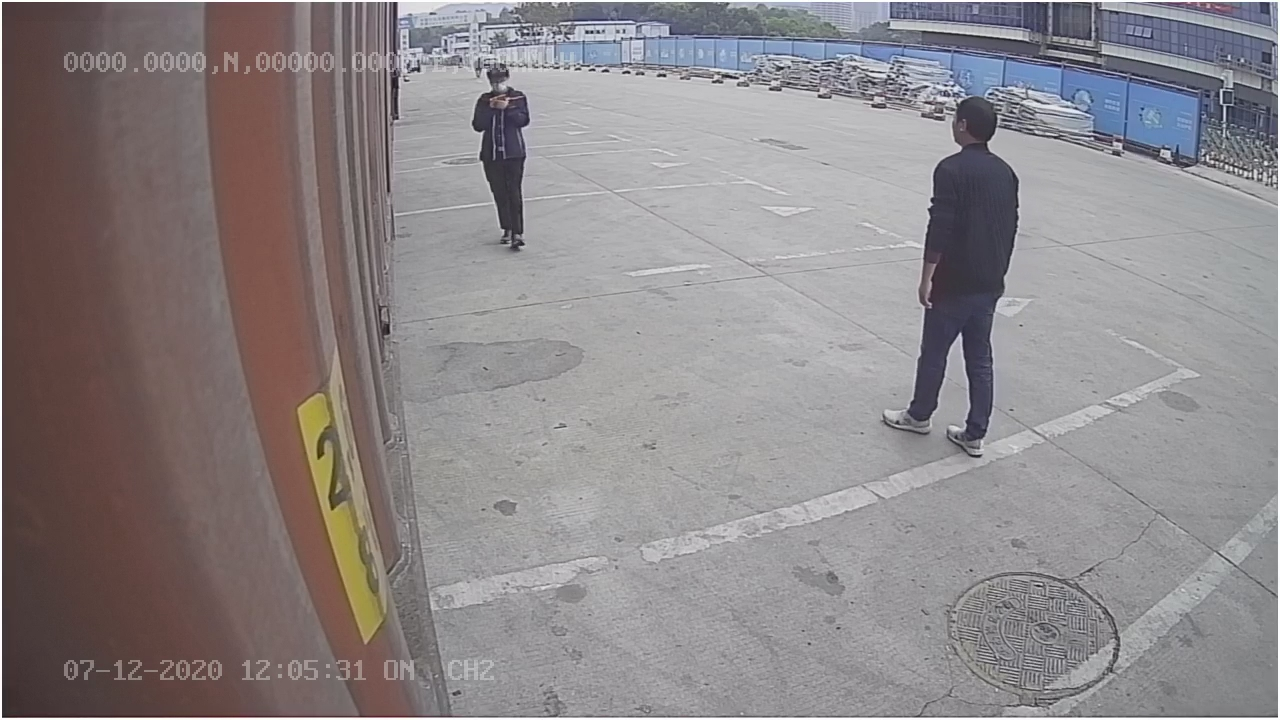person: (875, 96, 1021, 460)
